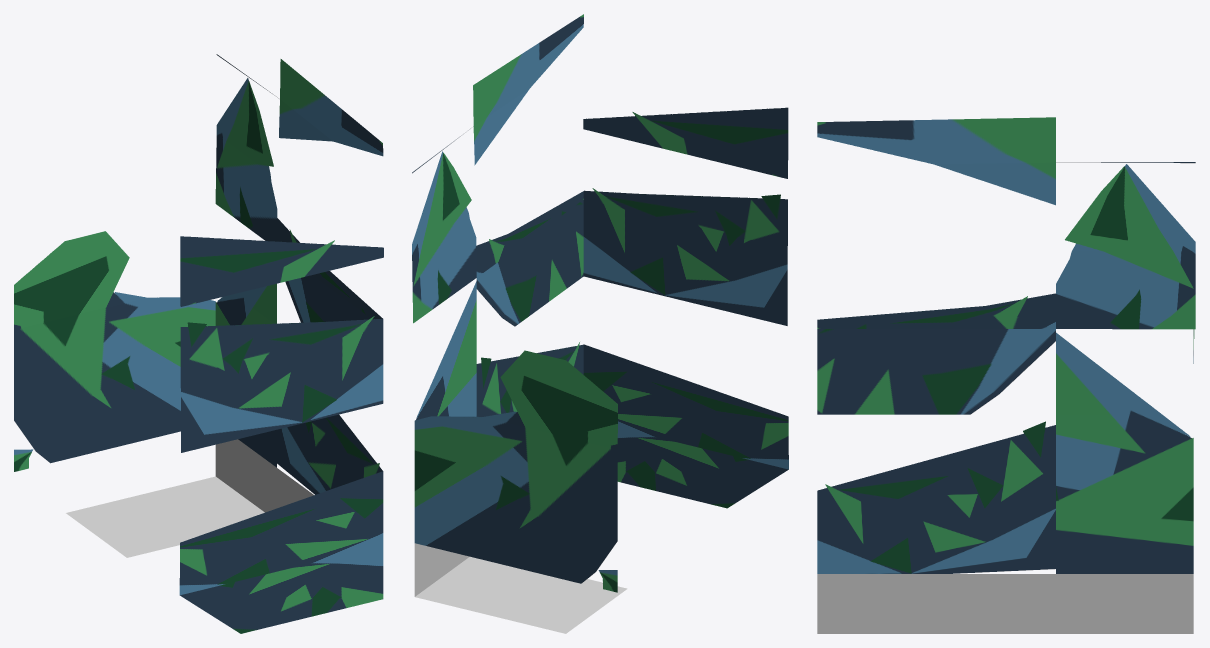
File: Textue.fbx
3 views of the same model, side by side, from view 1: azimuth 30°, elevation 25°; view 2: azimuth 150°, elevation 25°; view 3: azimuth 270°, elevation 25° (orthographic). The views are drawn at different scales.
Visible parts, largest first — view 1: 1э-Графити; view 2: 1э-Графити; view 3: 1э-Графити.
Boxes of the visible parts, x1,y1,x2,y2 form: 1э-Графити: (14,54,383,633); 1э-Графити: (412,14,788,633); 1э-Графити: (817,117,1195,633).
Size of the model in its own units: 286 by 610 by 403.
